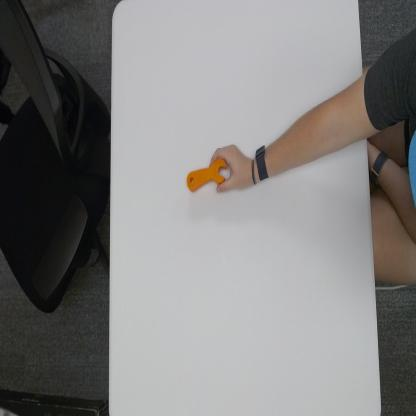Arm: (272, 52, 366, 190)
Hand: (216, 140, 254, 197)
Screwdriver: (186, 150, 226, 198)
